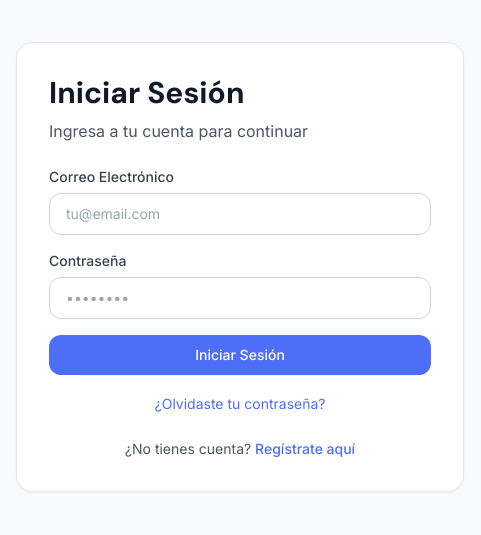
it: LoginPage Component › shows validation errors for empty fields
The image size is (481, 535).
Click the button "Iniciar Sesión".
click(240, 355)  # box [49,335,431,375]
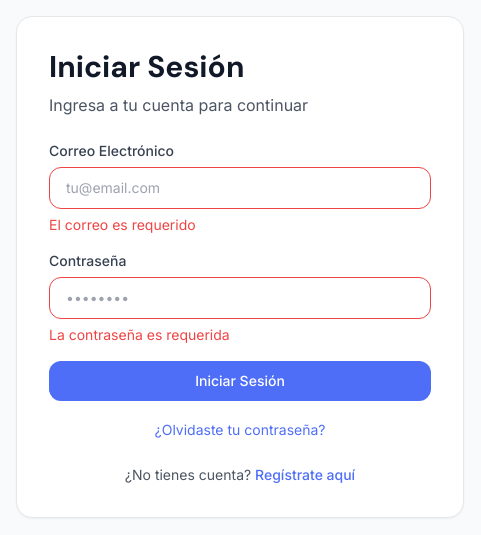
Now the text "El correo es requerido" is shown, box [49,216,196,233]
